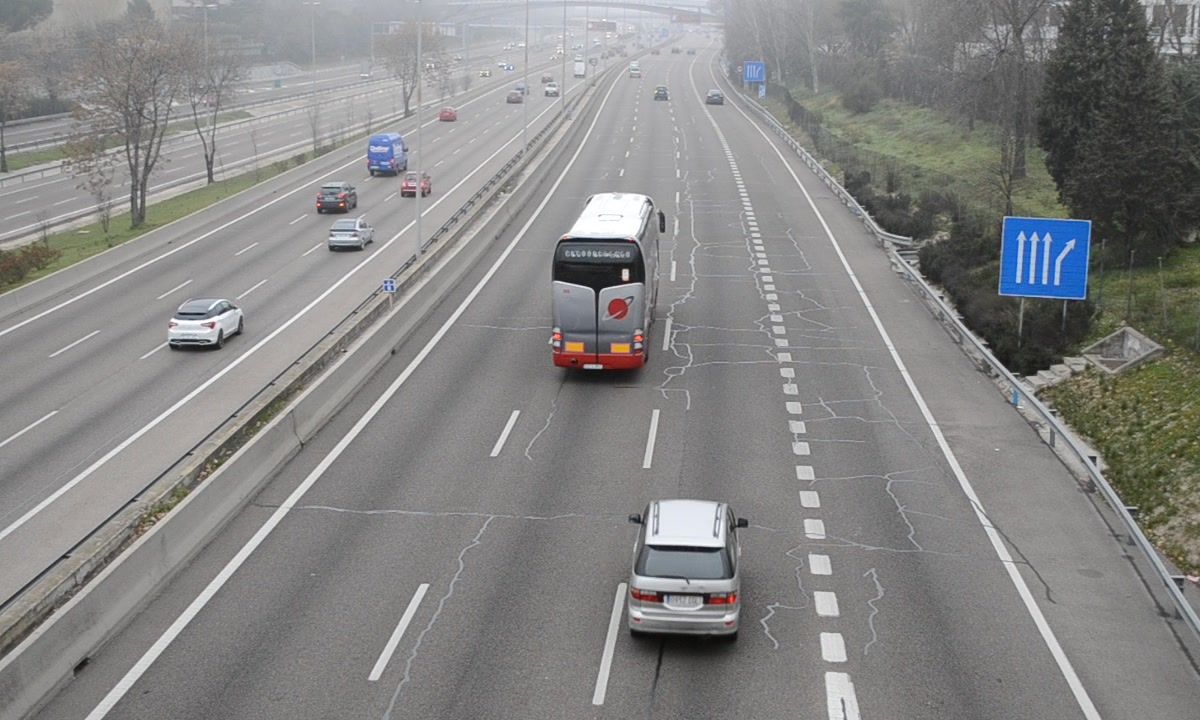bus: (549, 192, 659, 373)
car: (624, 499, 745, 642), (704, 87, 725, 106)
